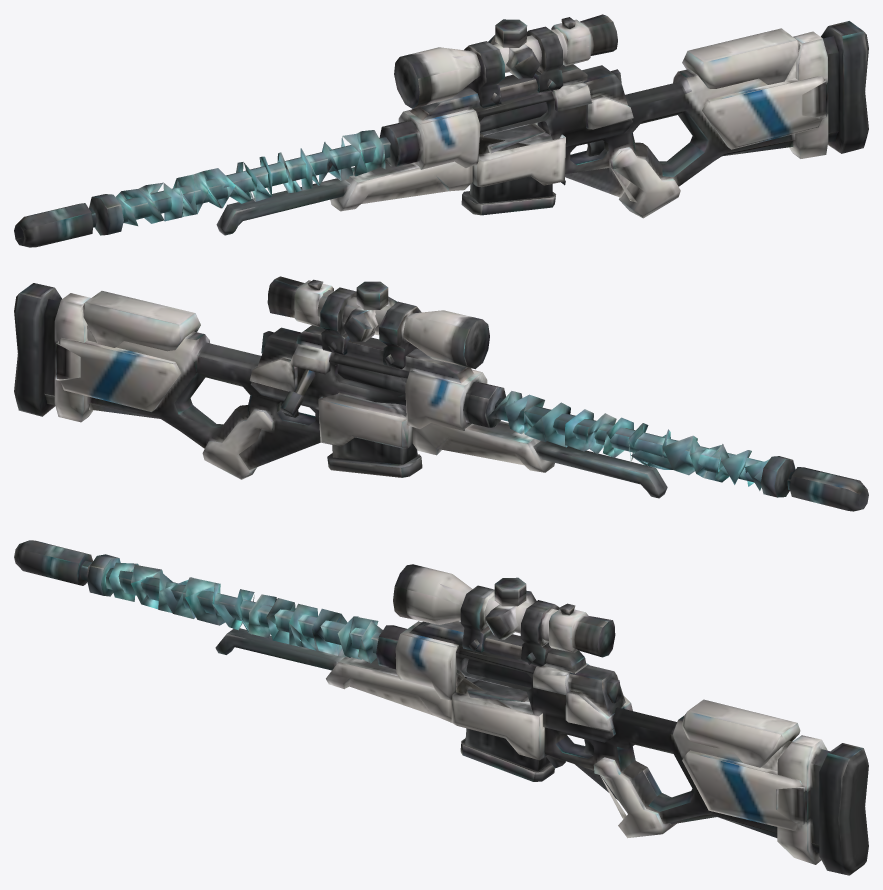
Rendered from sniper.glb.
3 renders of one model, top to bottom at view 1: azimuth 30°, elevation 25°; view 2: azimuth 150°, elevation 25°; view 3: azimuth 330°, elevation 25°, orthographic.
Size of the model in its own units: 0.9575 by 0.2368 by 0.083.
1 material, 1 textured.
